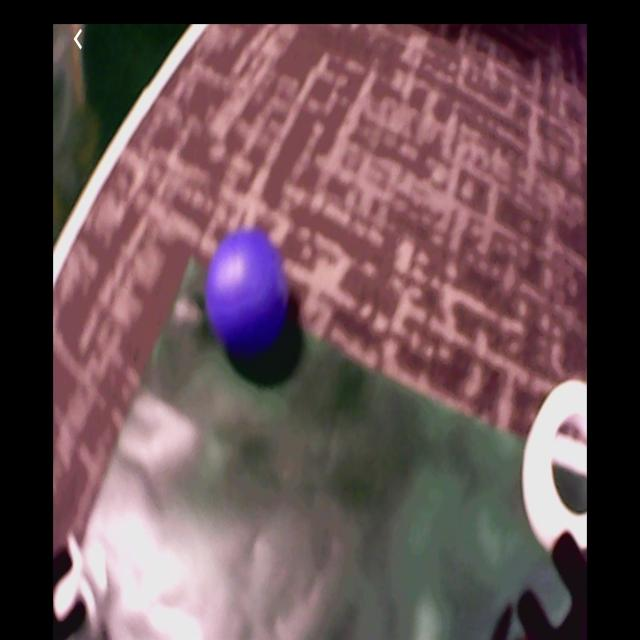ball: (208, 232, 285, 362)
